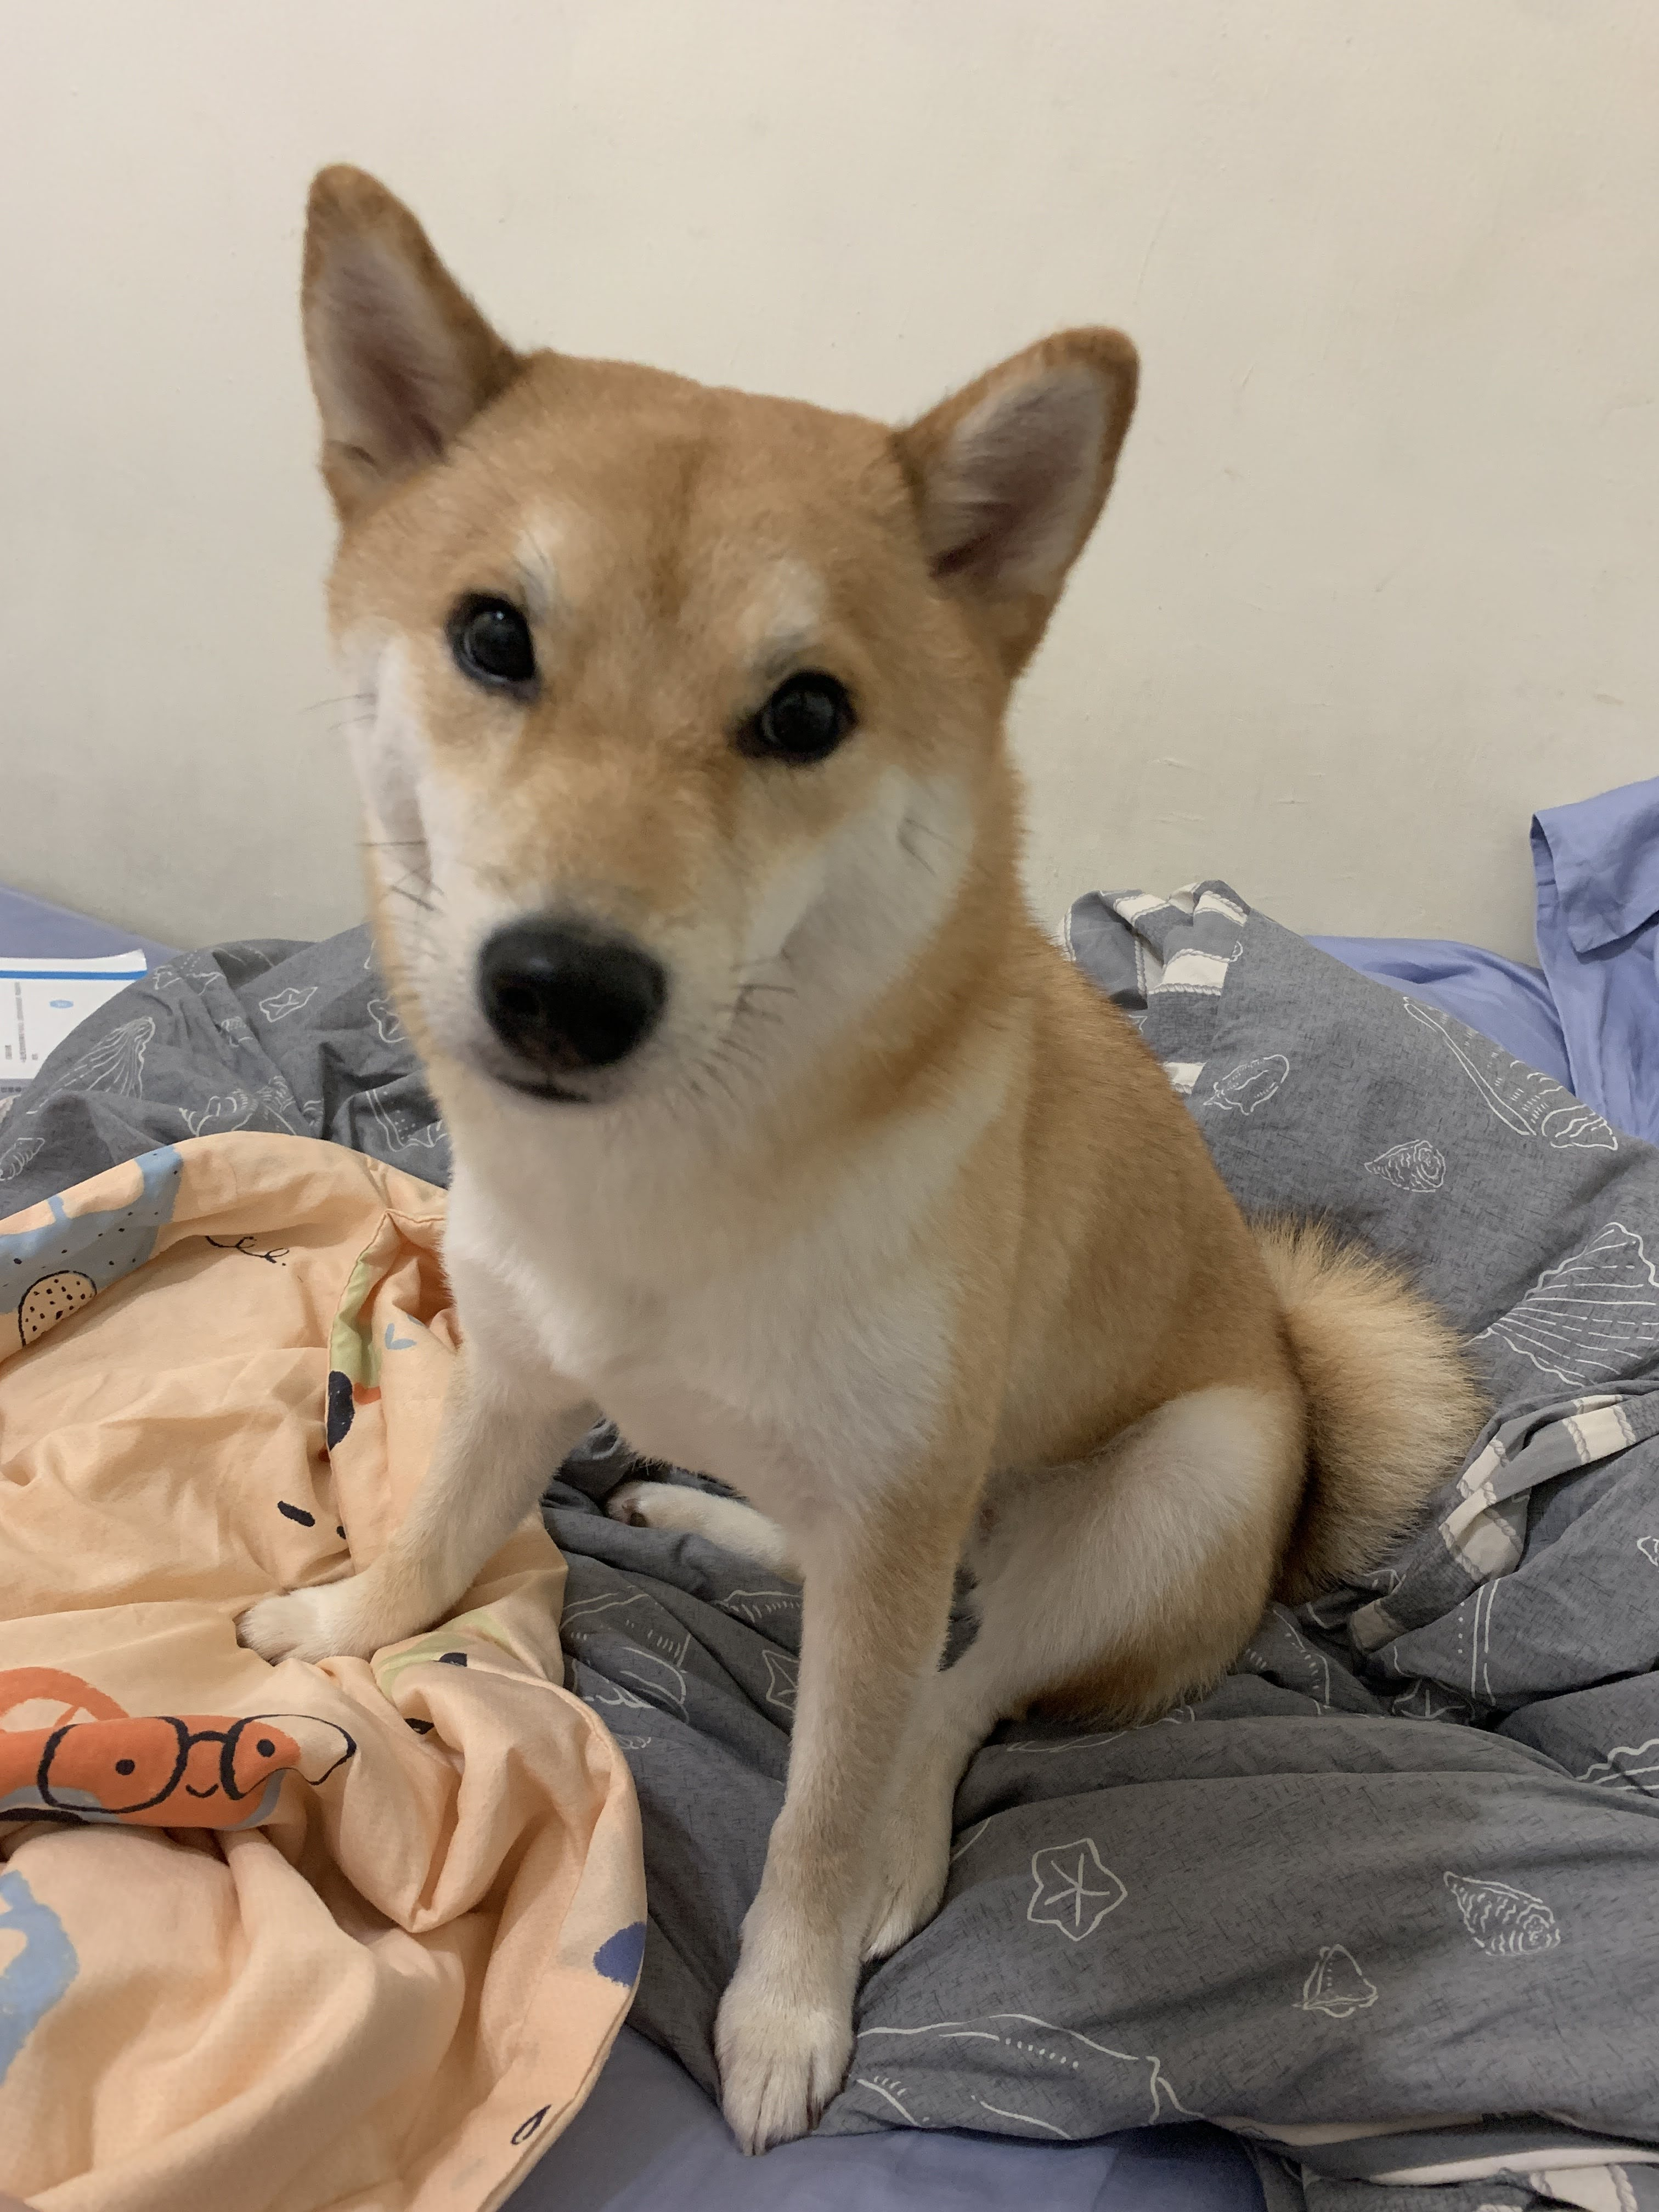Sit down: (265, 153, 1528, 2114)
